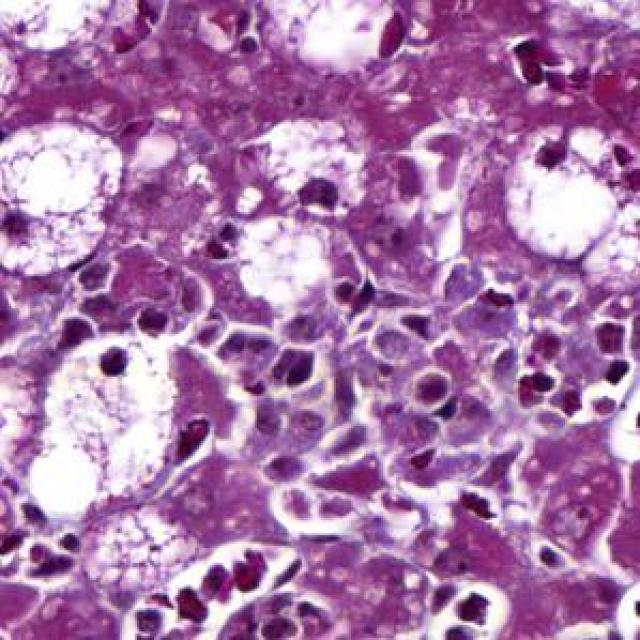ballooning: (9, 118, 130, 284)
